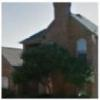chimneys: (53, 2, 76, 34)
